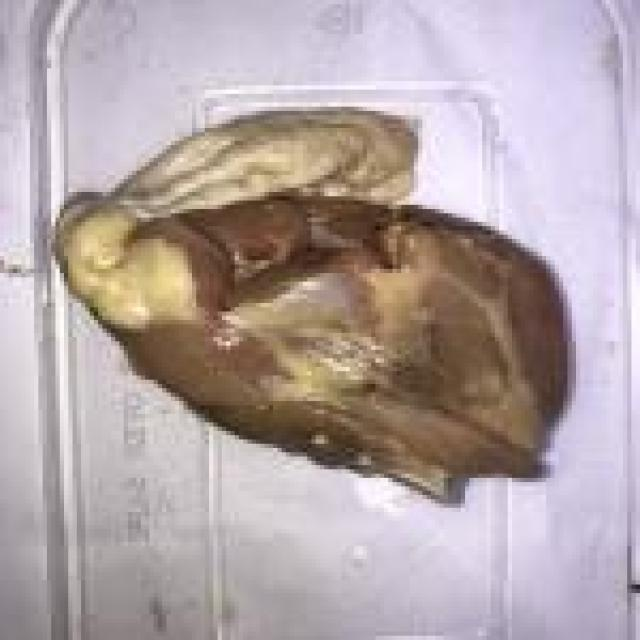breast: (41, 115, 582, 532)
